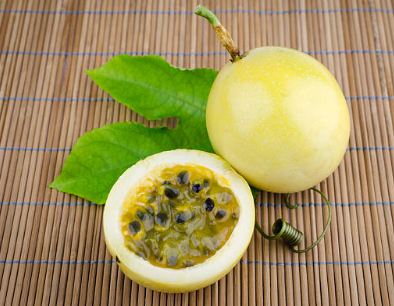maracuya: (201, 41, 354, 198)
